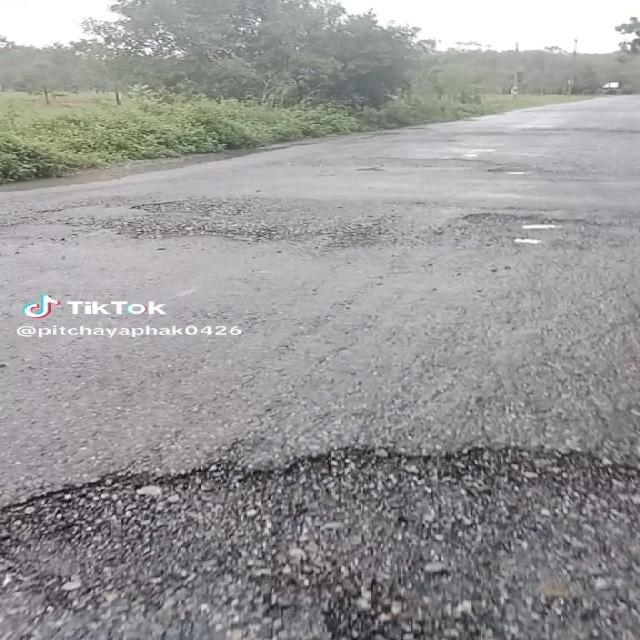Poth-hole: (418, 190, 606, 280)
